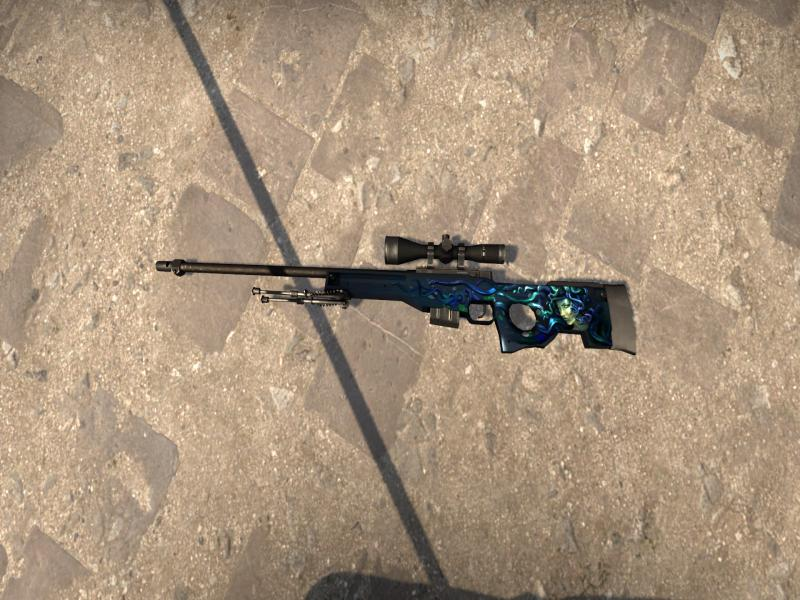AWP: (155, 236, 638, 354)
